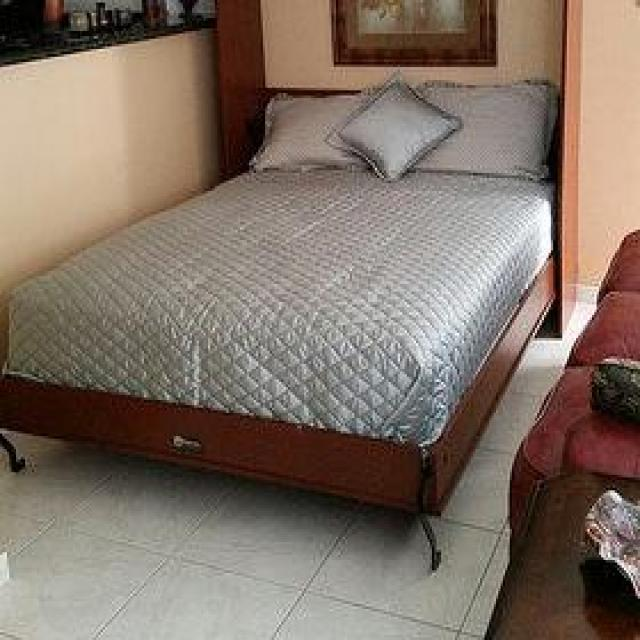bed: (0, 73, 560, 578)
